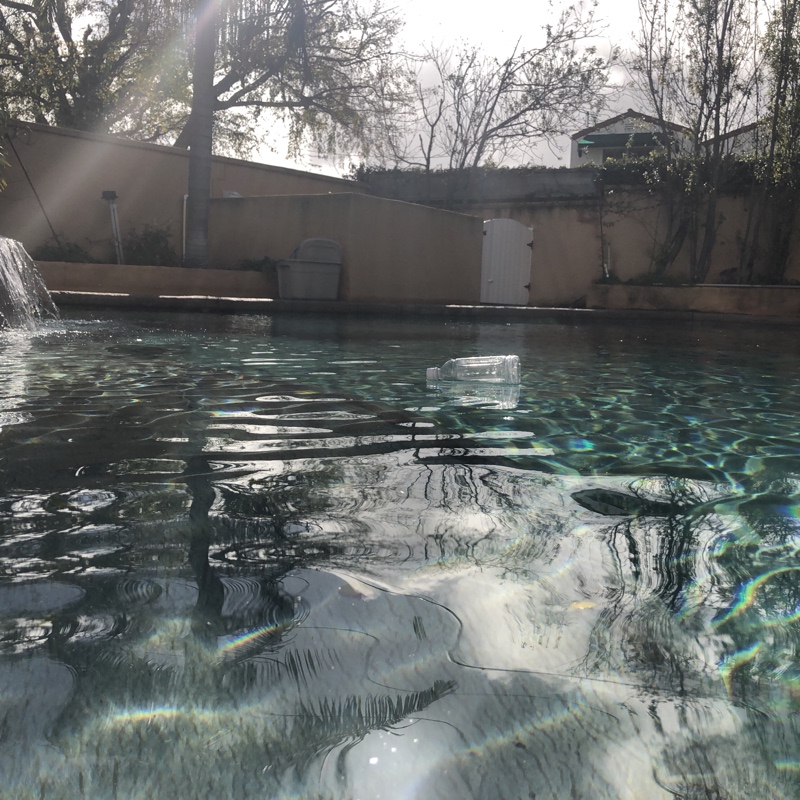Plastic Bottle: (422, 350, 523, 393)
